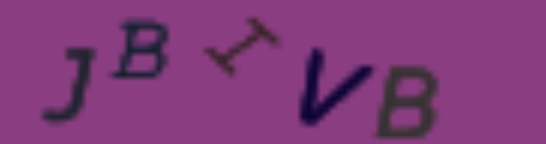B: (374, 62, 441, 142), (108, 17, 174, 83)
I: (201, 15, 278, 79)
J: (35, 42, 104, 126)
V: (294, 43, 378, 131)
